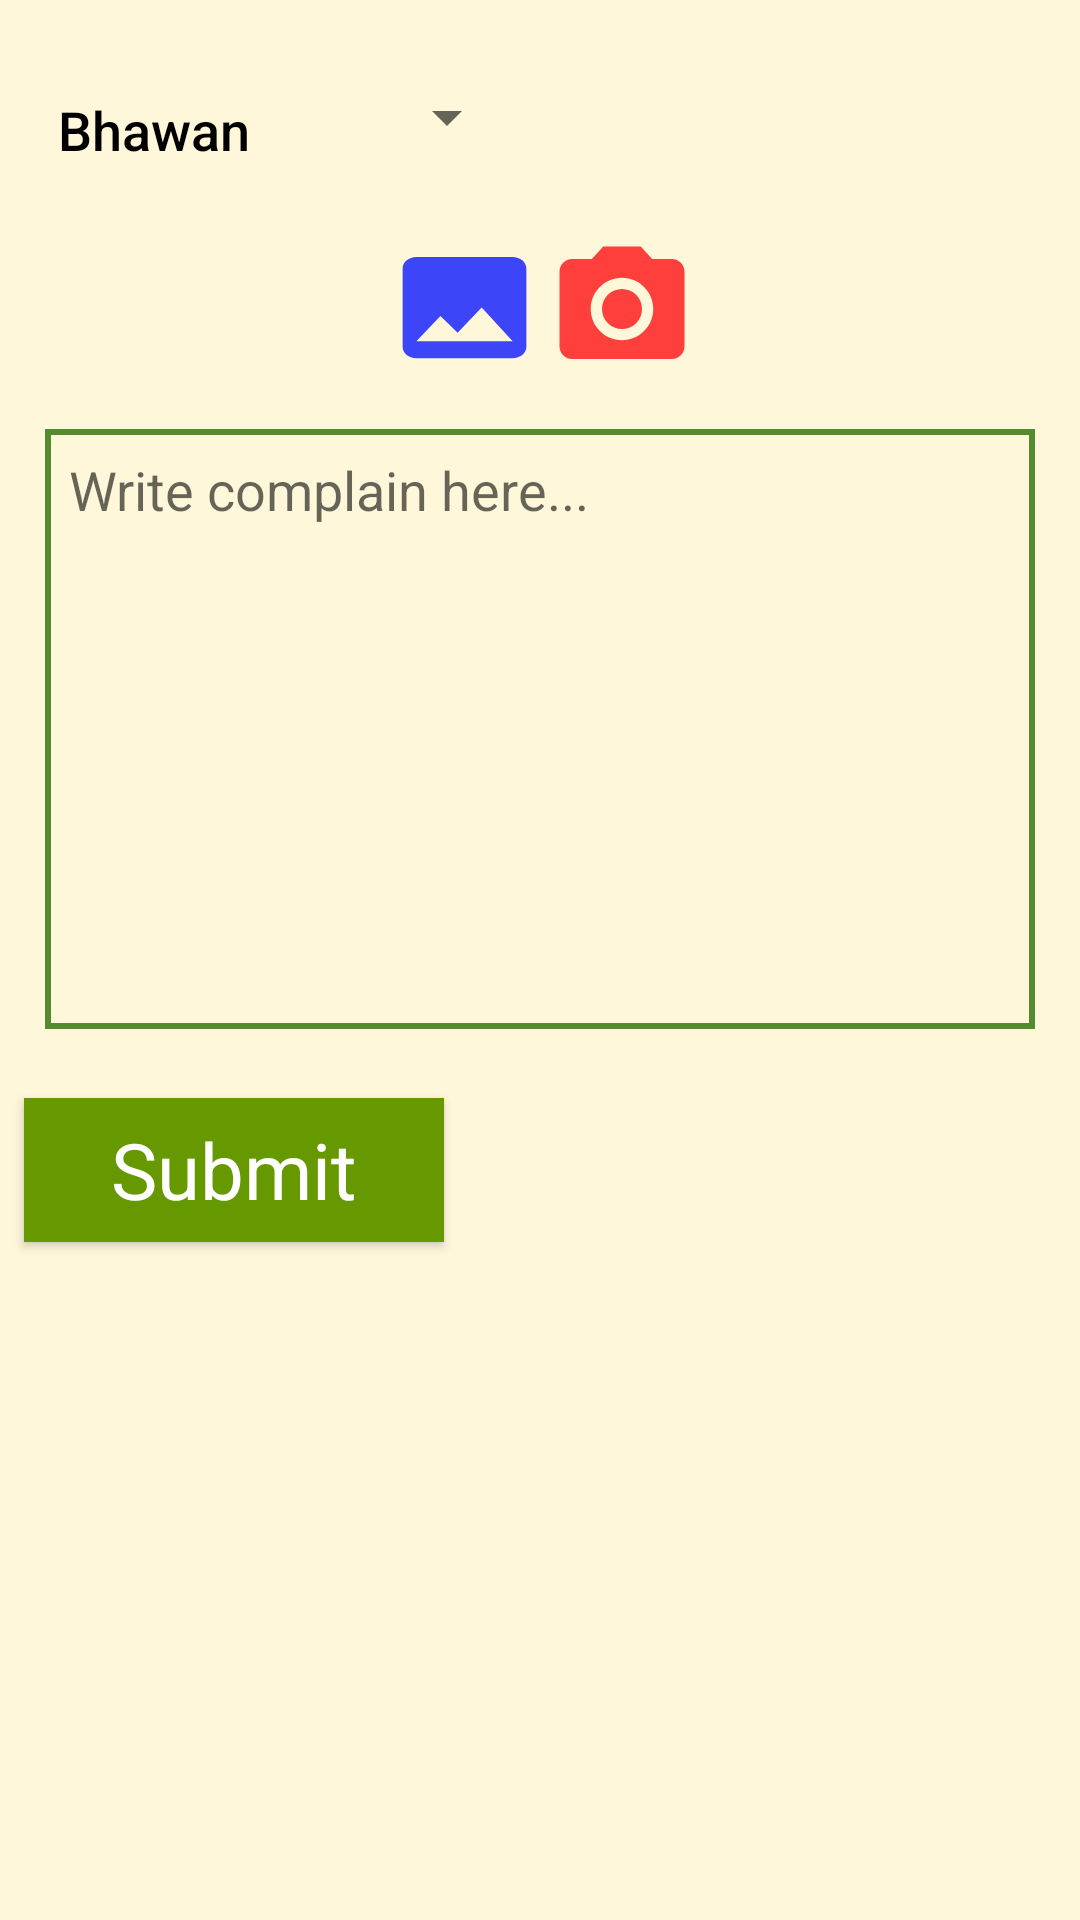

Screen size 1080x1920. Icon name, then its box in pixels as (x1, y1, x2, y2):
camera: (559, 246, 685, 359)
gallery: (402, 257, 527, 359)
